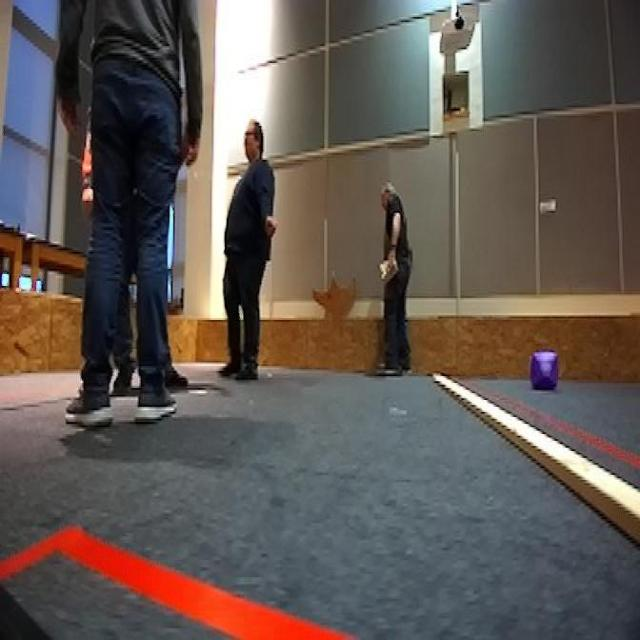frc_cube: (530, 351, 559, 398)
